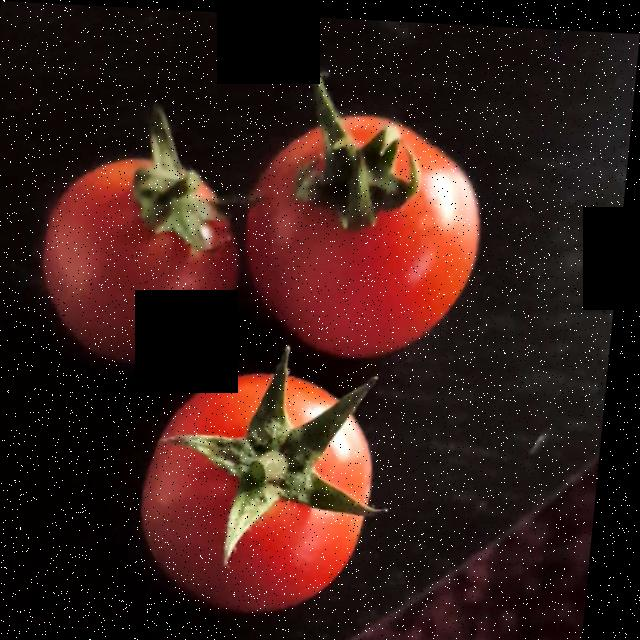tomato-raw: (39, 117, 486, 609)
